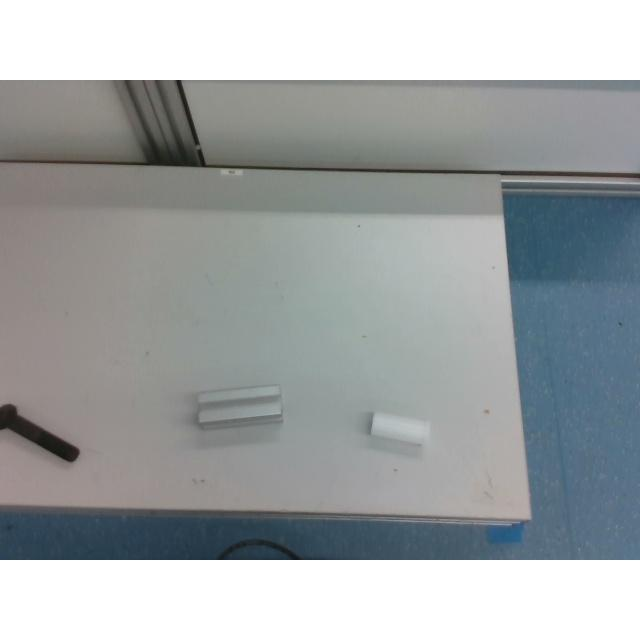M20_100: (0, 404, 78, 461)
S40_40_G: (197, 384, 285, 428)
Spacer: (370, 412, 430, 443)
